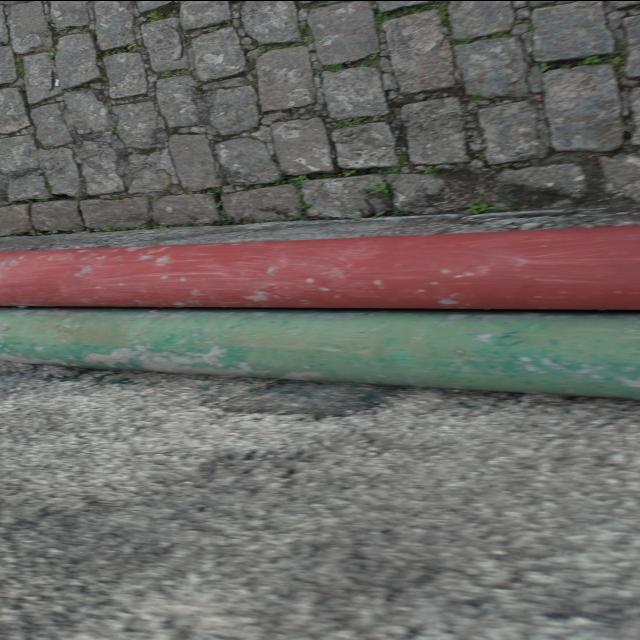gas: (0, 311, 640, 406), (0, 224, 640, 313)
